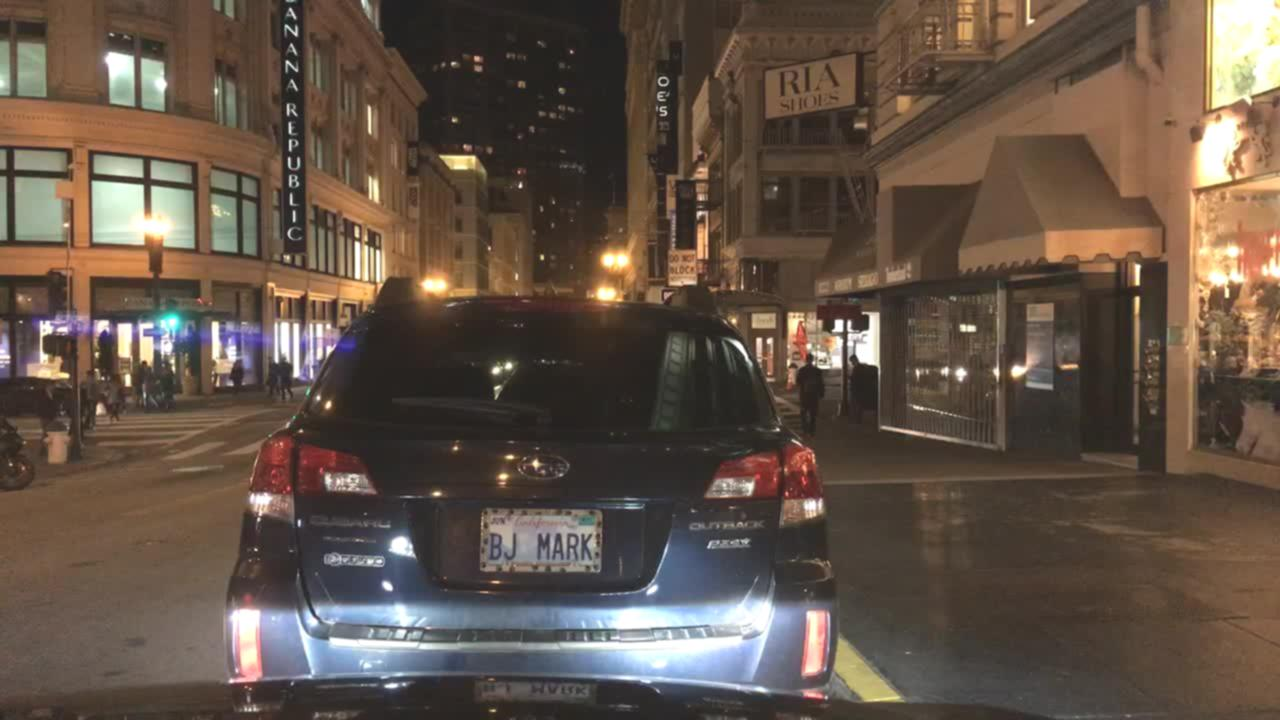subaru: (514, 448, 570, 486)
